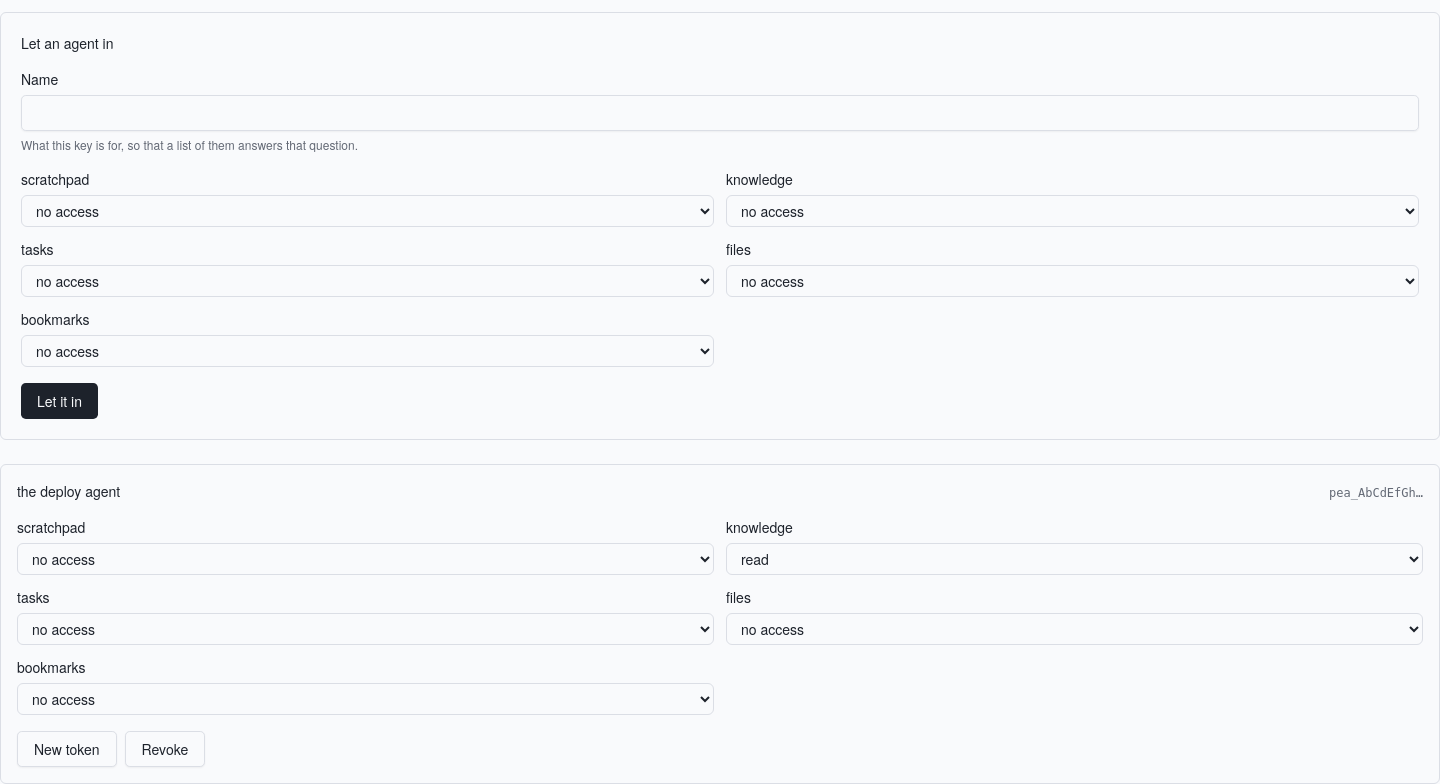
agent access › revokes one, and says why the revoked one is still listed
The image size is (1440, 784).
(page scrolled)
Click the button "Revoke" at (165, 749), box [125,731,205,767]
(page scrolled)
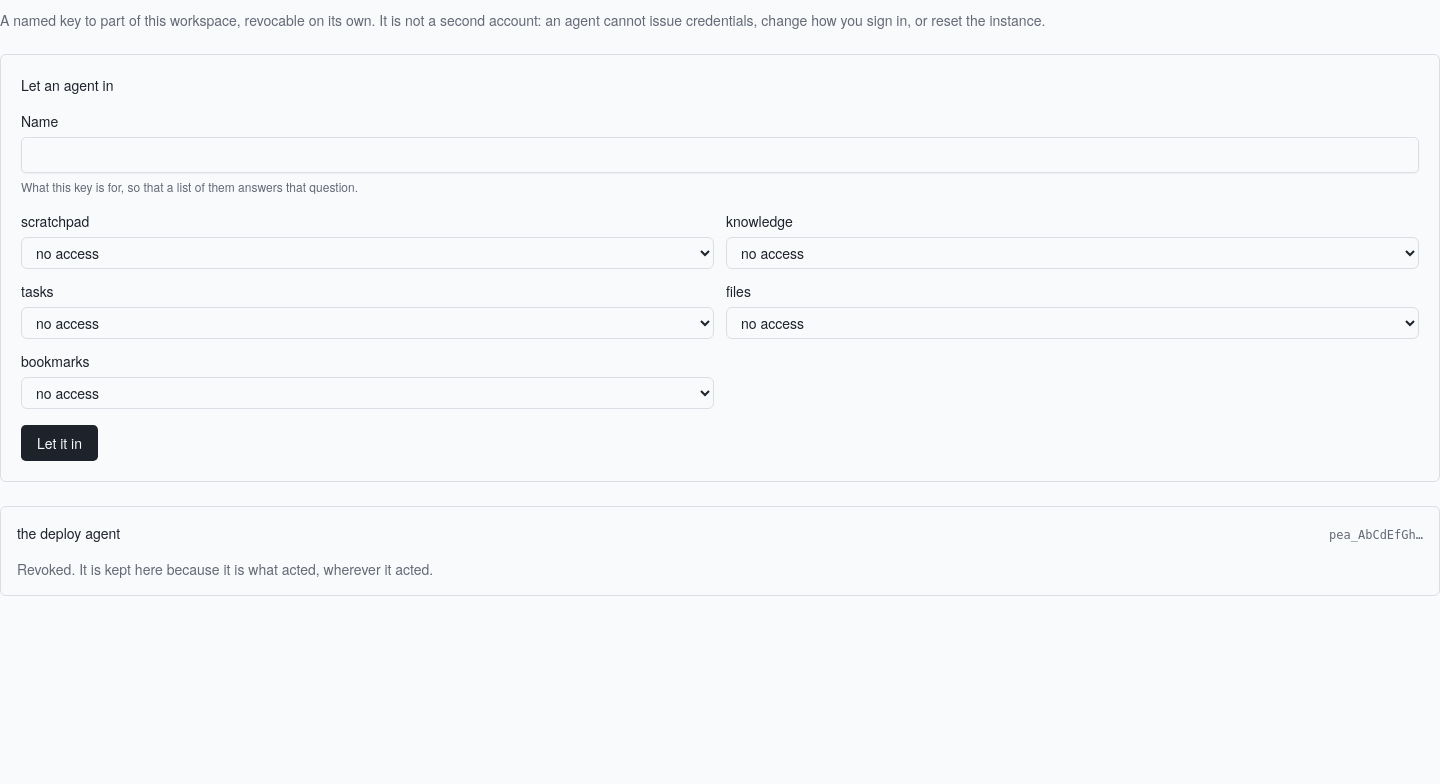
Expected: the heading "the deploy agent" is shown, [17,523,120,543]
Result: the text "Revoked." is shown at [17,559,433,579]
